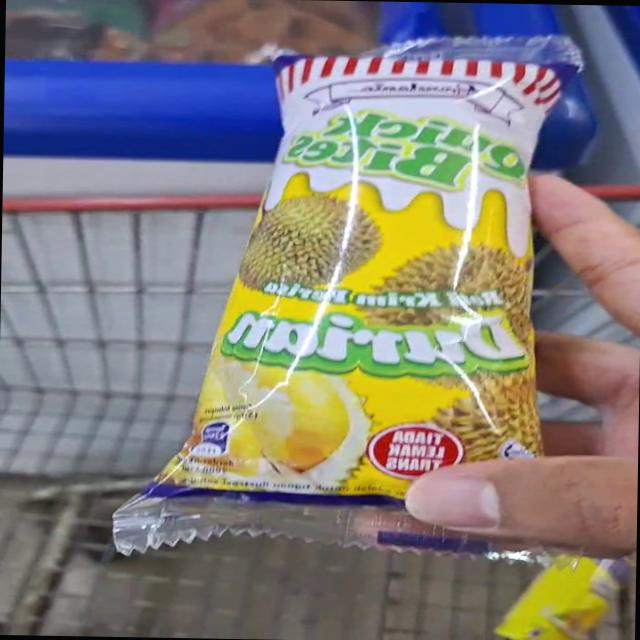Roti: (69, 31, 578, 566), (492, 552, 624, 640)
